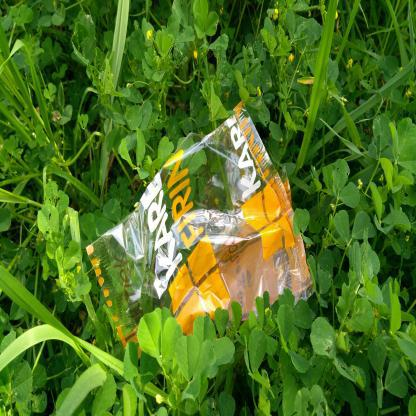plastik: (88, 99, 317, 363)
